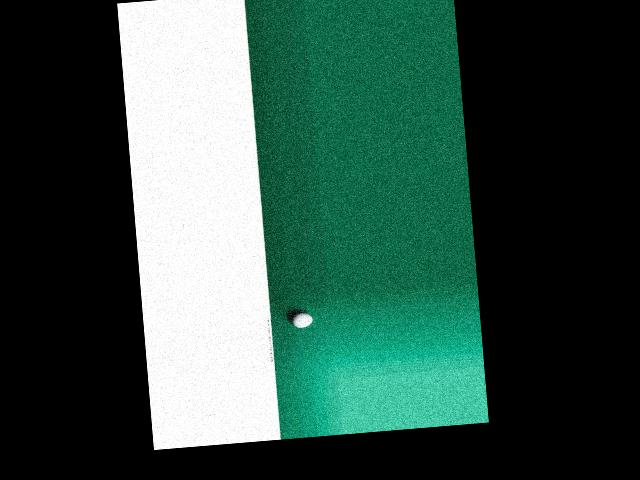egg: (291, 313, 312, 329)
